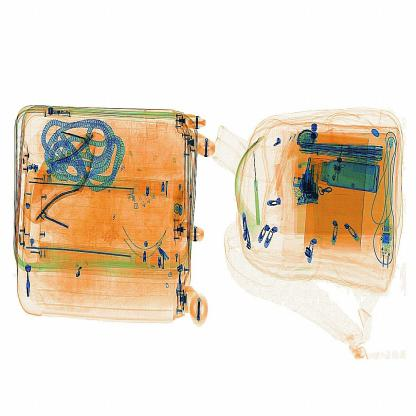wrench: (246, 140, 274, 237)
